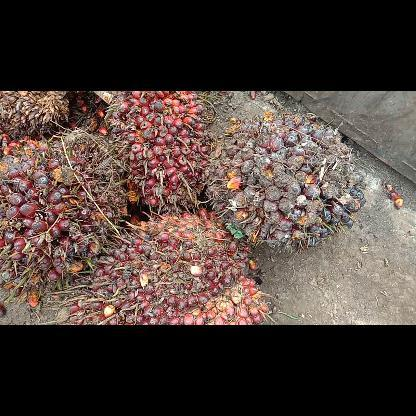Kurang masak: (202, 108, 368, 254)
TBS masak: (49, 207, 273, 324), (0, 127, 129, 310), (98, 91, 214, 217)
